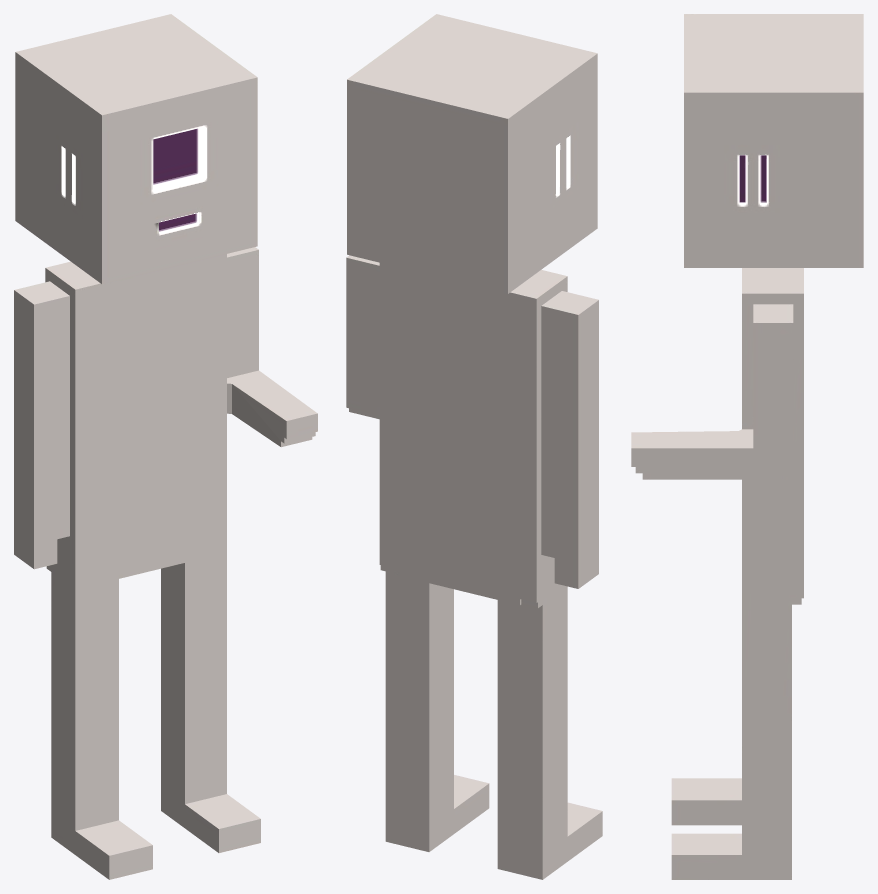
The model's file is alien.glb.
The picture shows the model from 3 angles, left to right: view 1: azimuth 30°, elevation 25°; view 2: azimuth 150°, elevation 25°; view 3: azimuth 270°, elevation 25°; orthographic projection. The views are drawn at different scales.
Parts seen in each view (by area): view 1: alien.001; view 2: alien.001; view 3: alien.001.
Part boxes in pixels (<box>): alien.001: <box>14,14,317,879</box>; alien.001: <box>346,14,602,879</box>; alien.001: <box>631,14,863,879</box>.
Size of the model in its own units: 3.9 by 12.6 by 3.37.
Materials: 1 (1 with a texture image).
